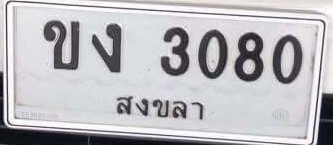txt02: (42, 18, 81, 71)
txt05: (90, 21, 123, 74)
